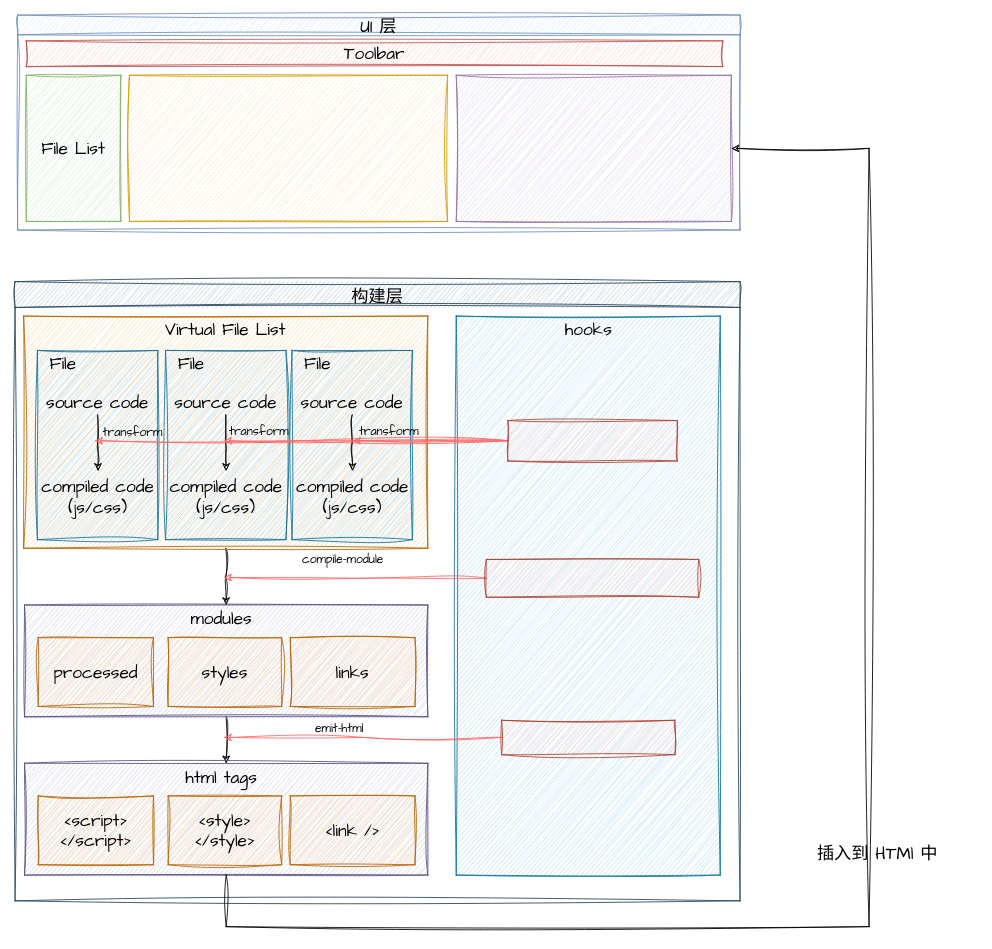
Some shapes in this 992 by 949 pixel diagram are drawn without their labels. The shapes that lost their labels are listed below. From the top down, each one's centre as x and y in pixels, then its label:
[288,147]: Editor
[593,147]: Preview (iframe)
[592,440]: transfrom plugin
[592,578]: compile-module plugin
[588,737]: emit plugin
